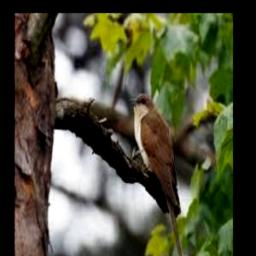Cuckoo: (130, 94, 183, 256)
